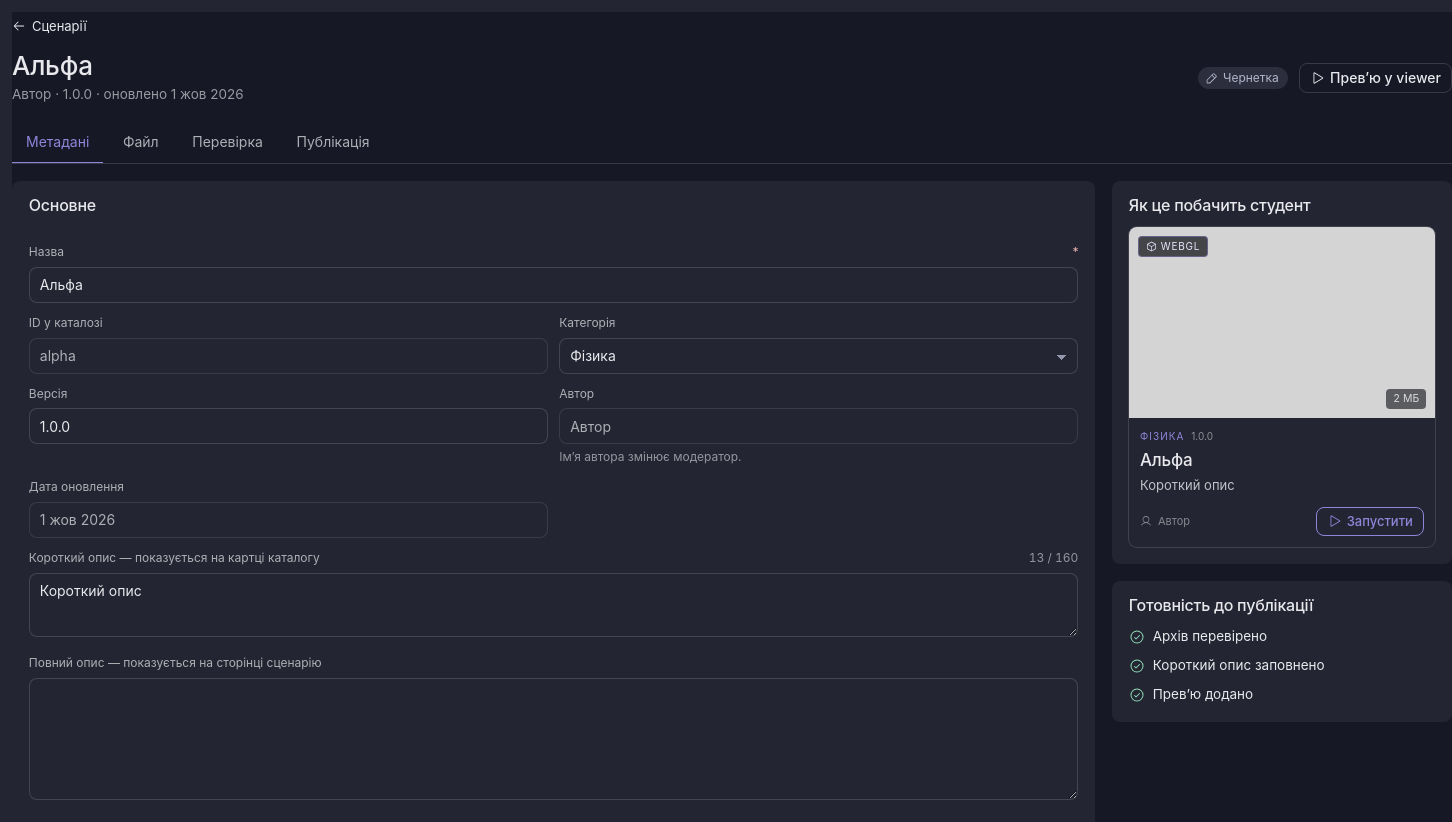
Test: ScenarioEditComponent › after a save › DW-5.5 refetches the row, shows the saved values and is clean again
Replace the text in the field with id "meta-title" with "Збережена назва": (554, 285) [29, 267, 1078, 303]
(page scrolled)
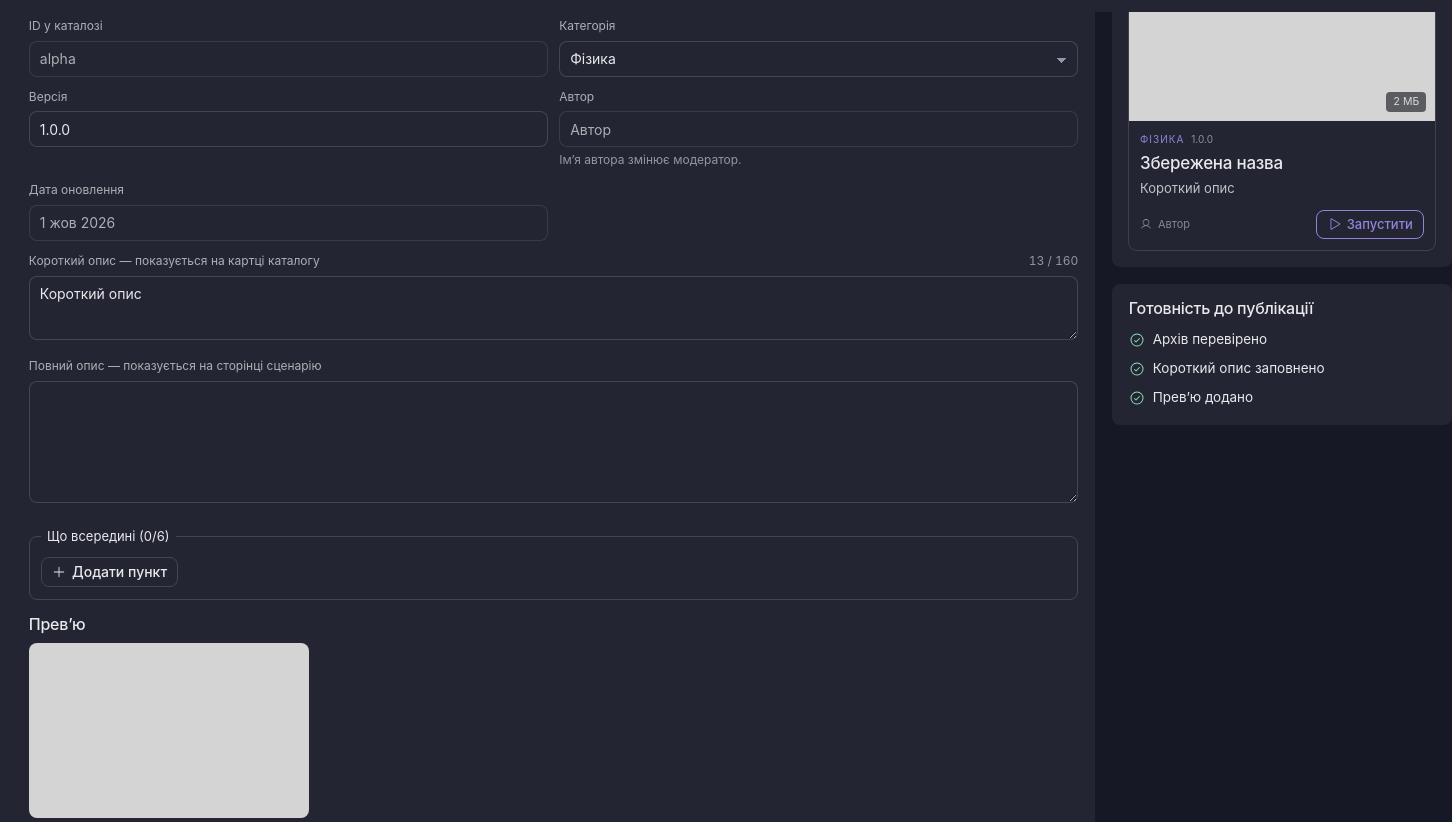
Submit the form
(page scrolled)
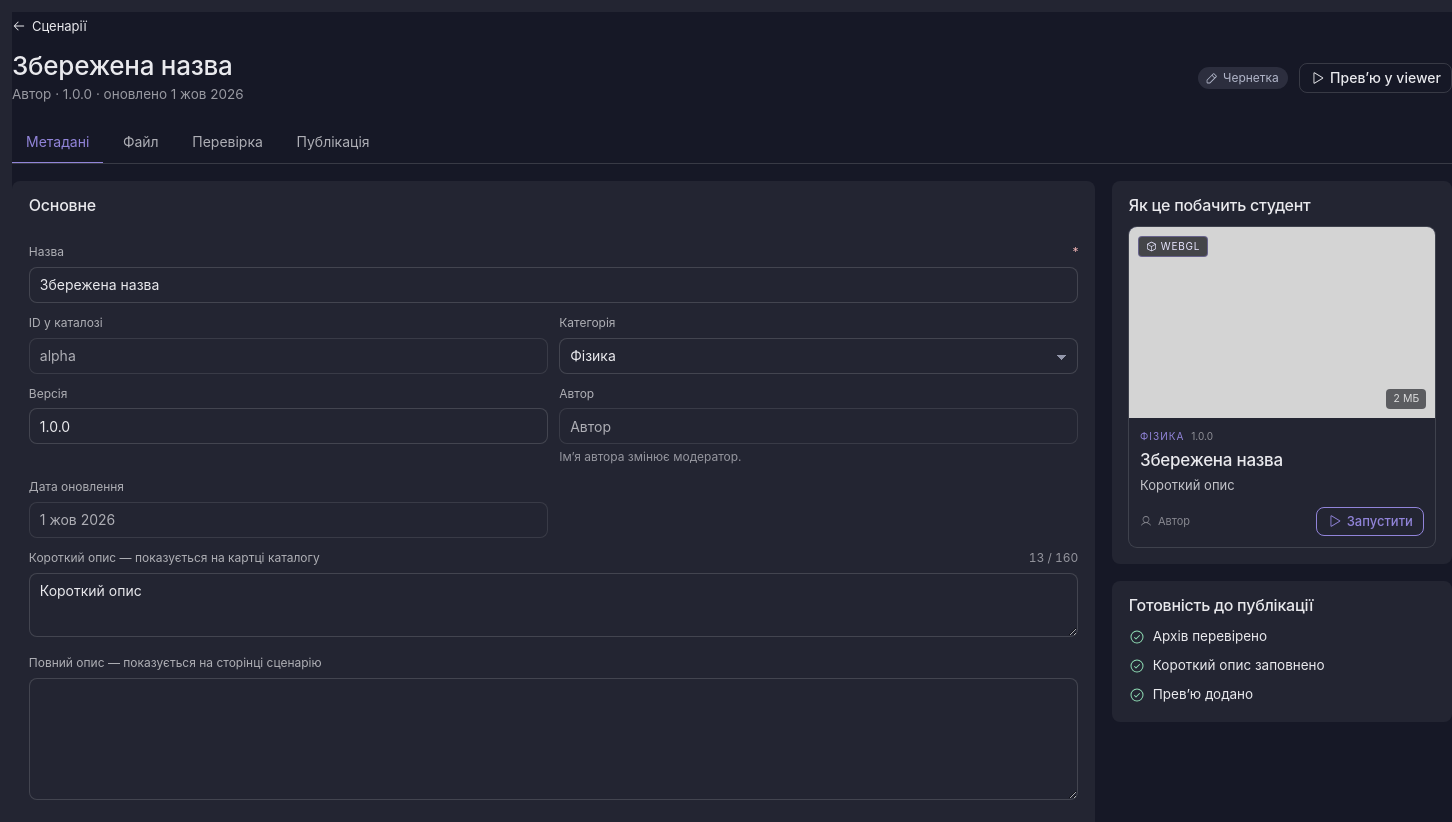
Expected: the heading "Збережена назва" next to "Чернетка" is shown, [12, 50, 232, 81]
